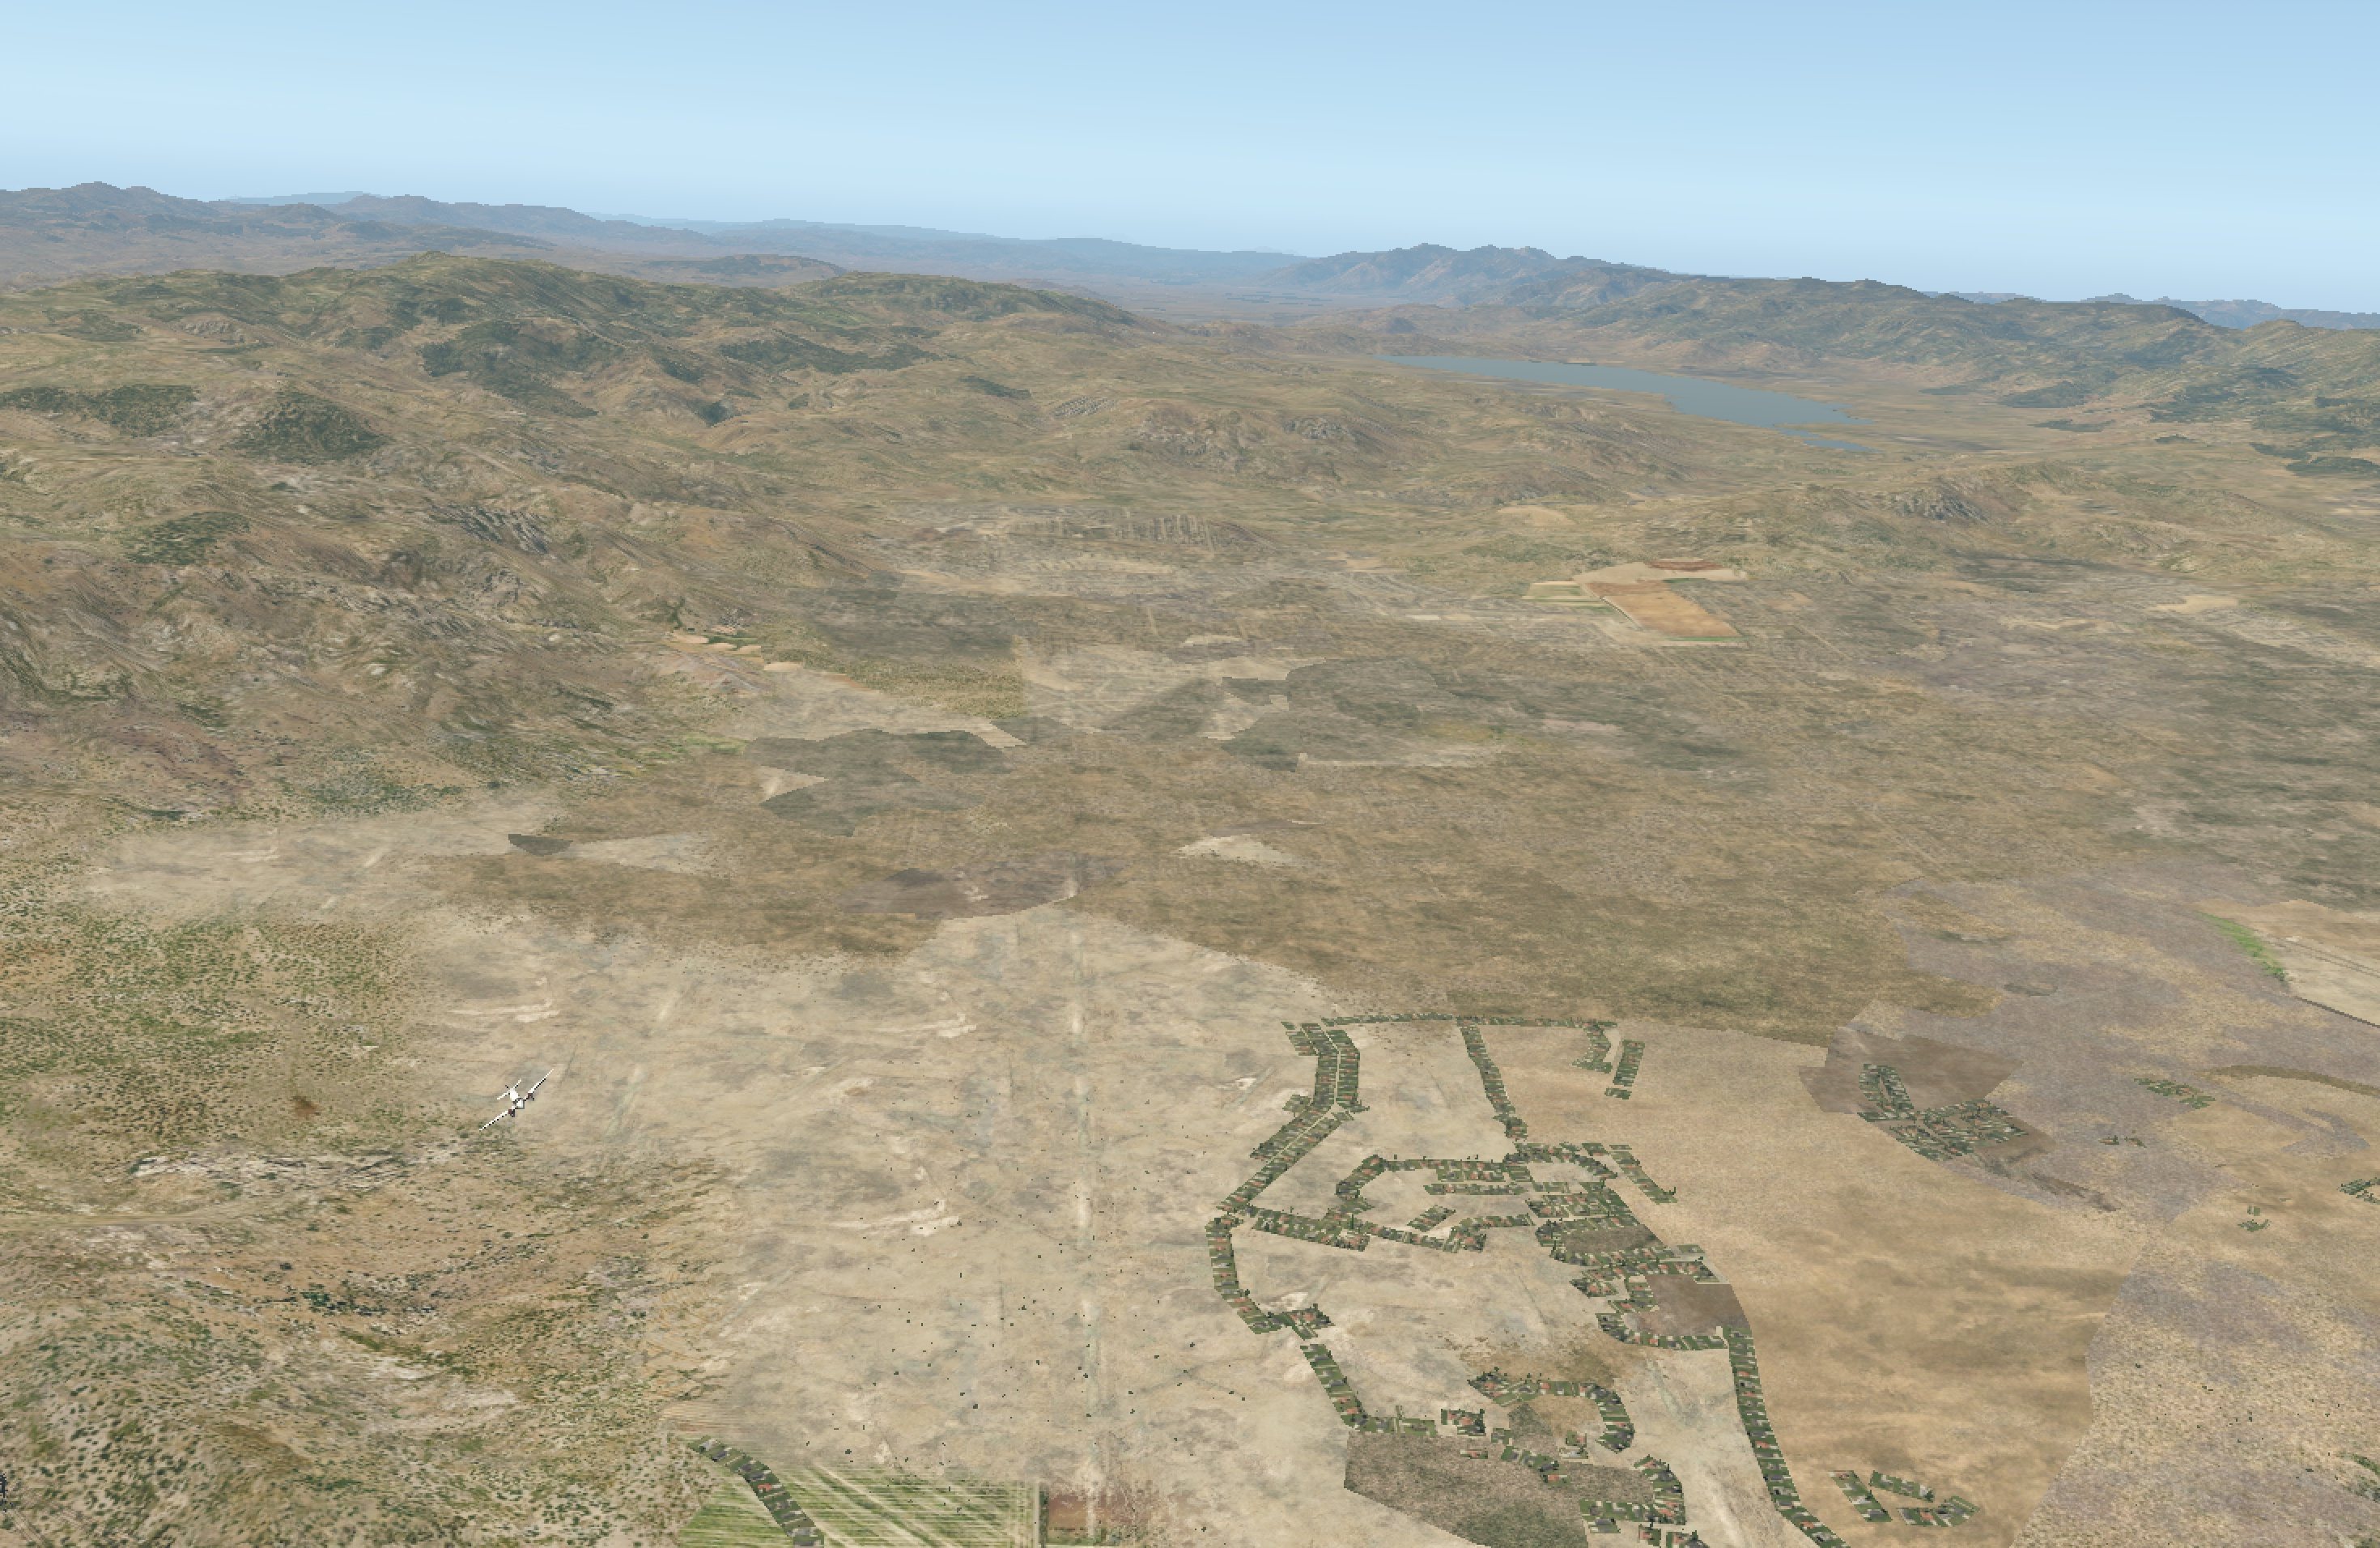aircraft: (477, 1088, 564, 1121)
